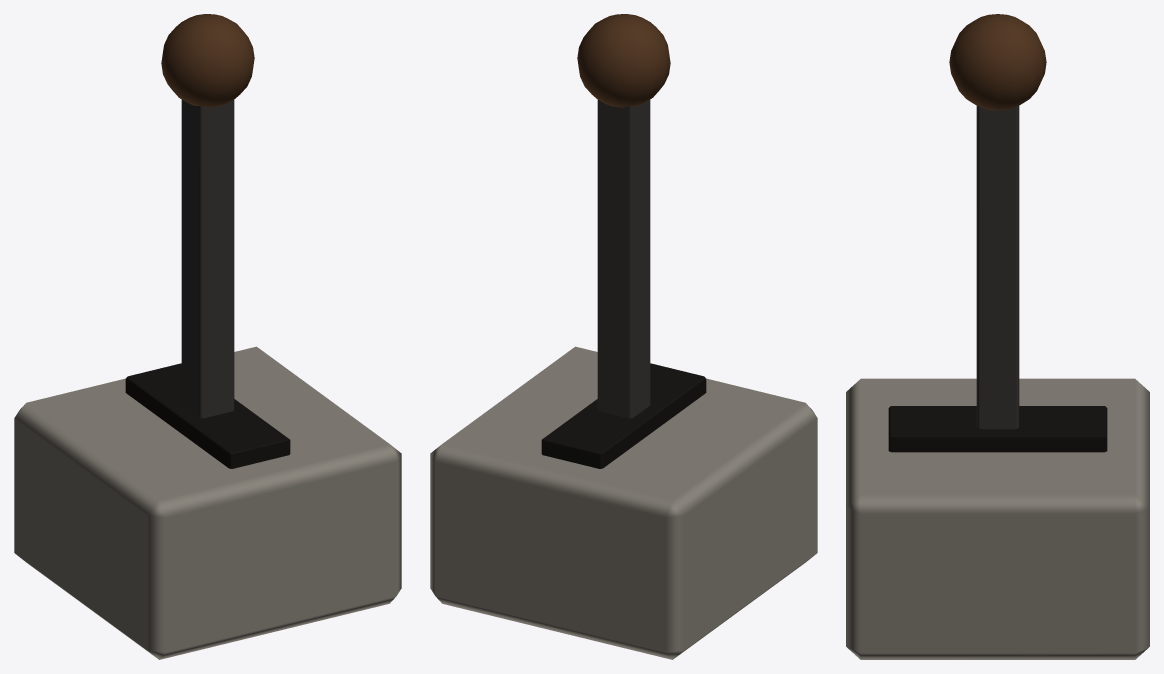
The model's file is lever.ac680f44.glb.
The picture shows the model from 3 angles, left to right: view 1: azimuth 30°, elevation 25°; view 2: azimuth 150°, elevation 25°; view 3: azimuth 270°, elevation 25°; orthographic projection. The views are drawn at different scales.
Visible parts, largest first — view 1: body, swing; view 2: body, swing; view 3: body, swing.
Part boxes in pixels (x1,y1,x2,y2): body: [14, 346, 401, 659]; swing: [161, 14, 254, 418]; body: [430, 346, 817, 659]; swing: [577, 14, 670, 418]; body: [846, 378, 1149, 659]; swing: [949, 14, 1046, 429].
Size of the model in its own units: 0.5 by 1.06 by 0.5.
